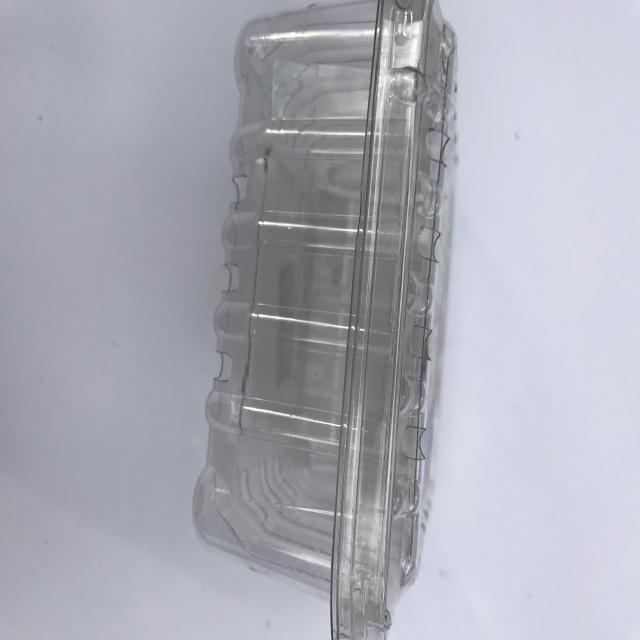plastic: (191, 0, 458, 638)
